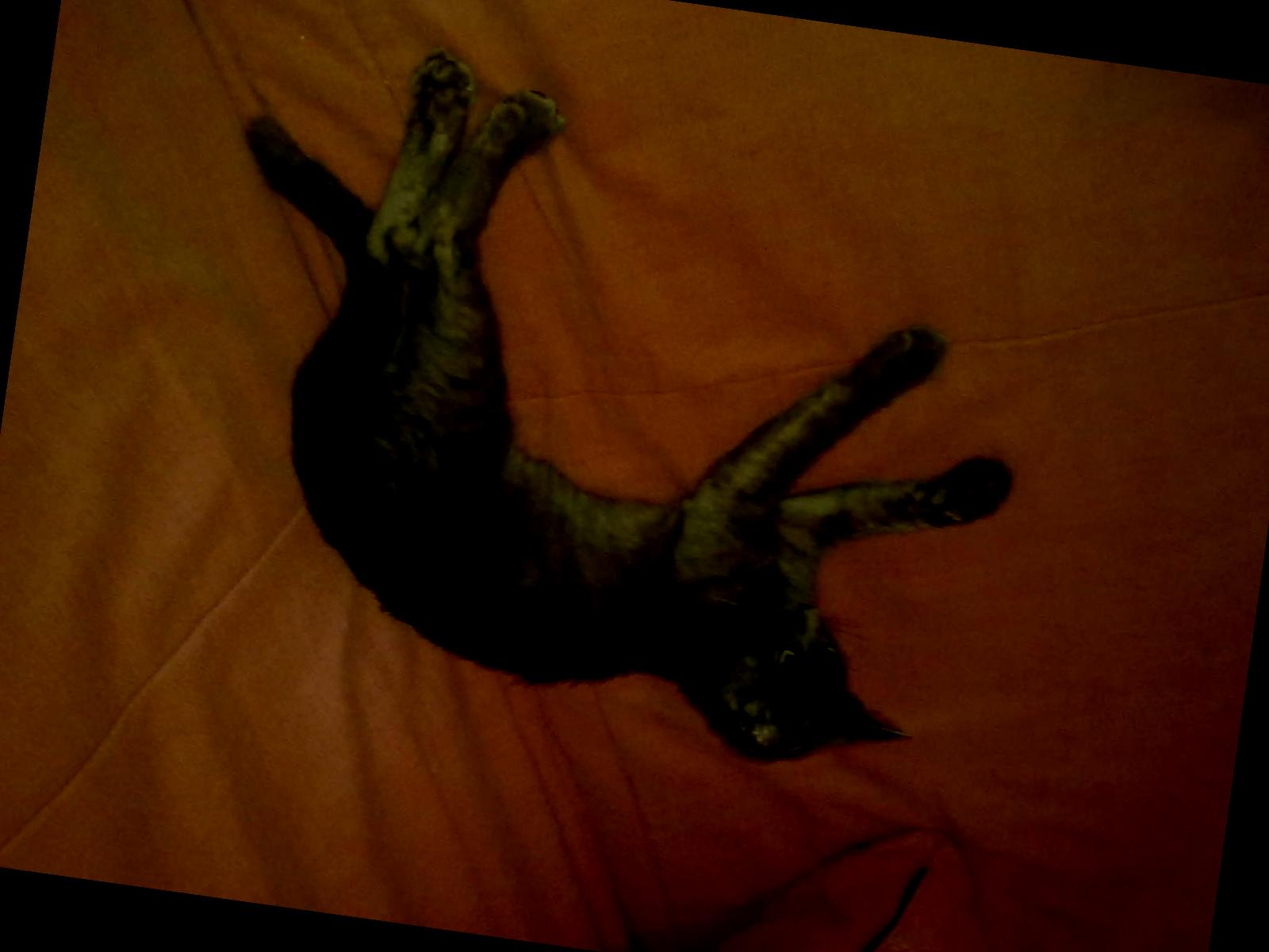macka: (163, 24, 1062, 801)
